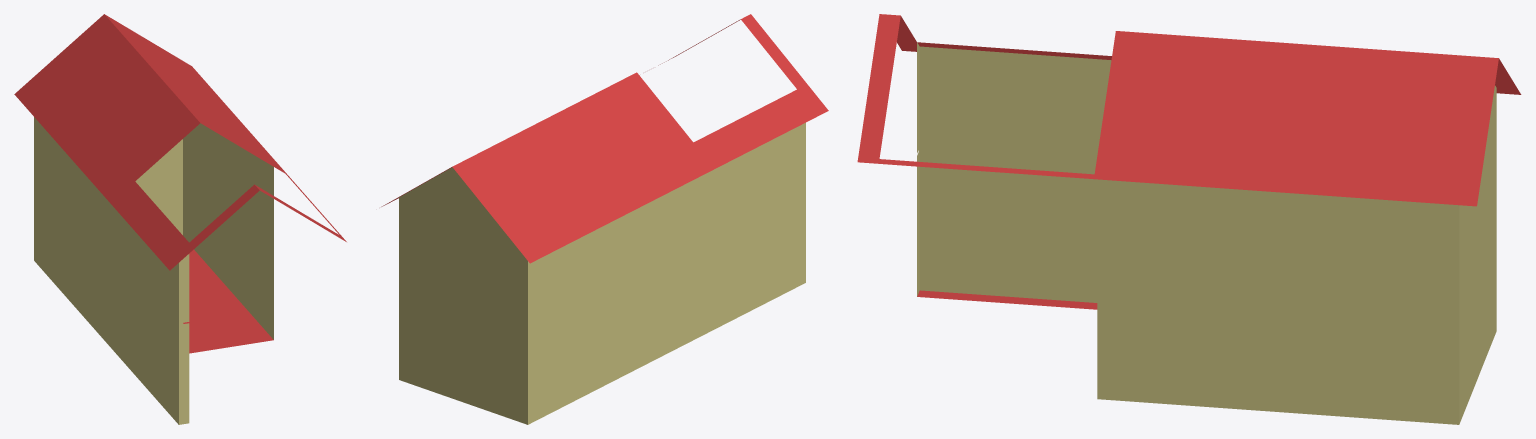
The picture shows the model from 3 angles, left to right: view 1: azimuth 30°, elevation 25°; view 2: azimuth 150°, elevation 25°; view 3: azimuth 270°, elevation 25°; orthographic projection. The views are drawn at different scales.
Size of the model in its own units: 17.02 by 30.69 by 16.43.
